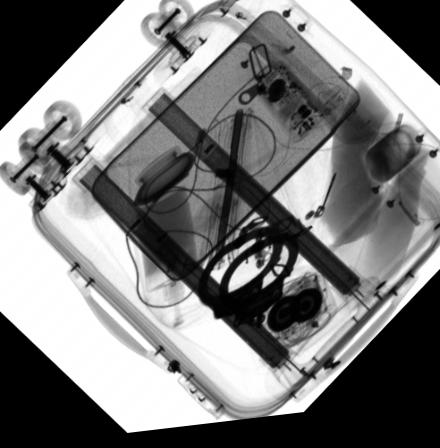HandCuffs: (194, 231, 297, 335)
